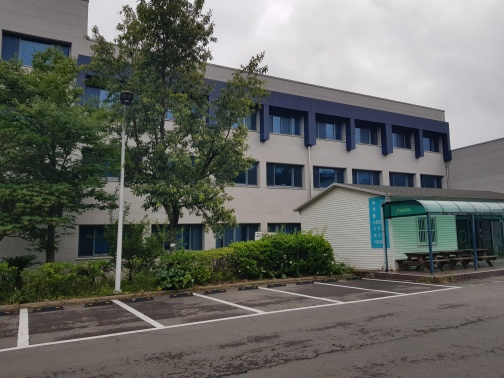College of Social Sciences: (22, 7, 487, 271), (254, 81, 455, 165)
